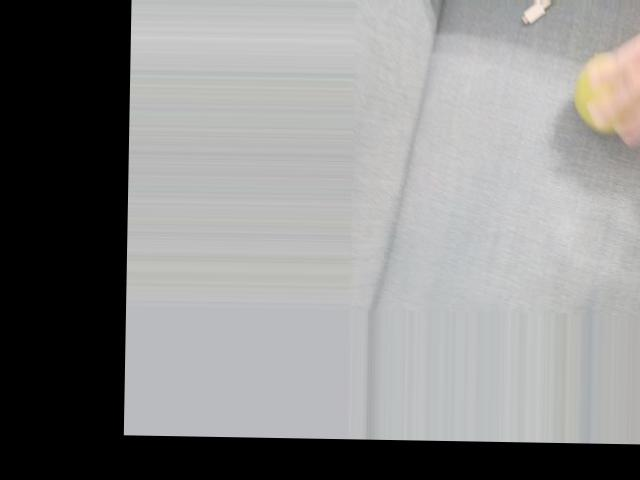apple: (554, 41, 640, 138)
